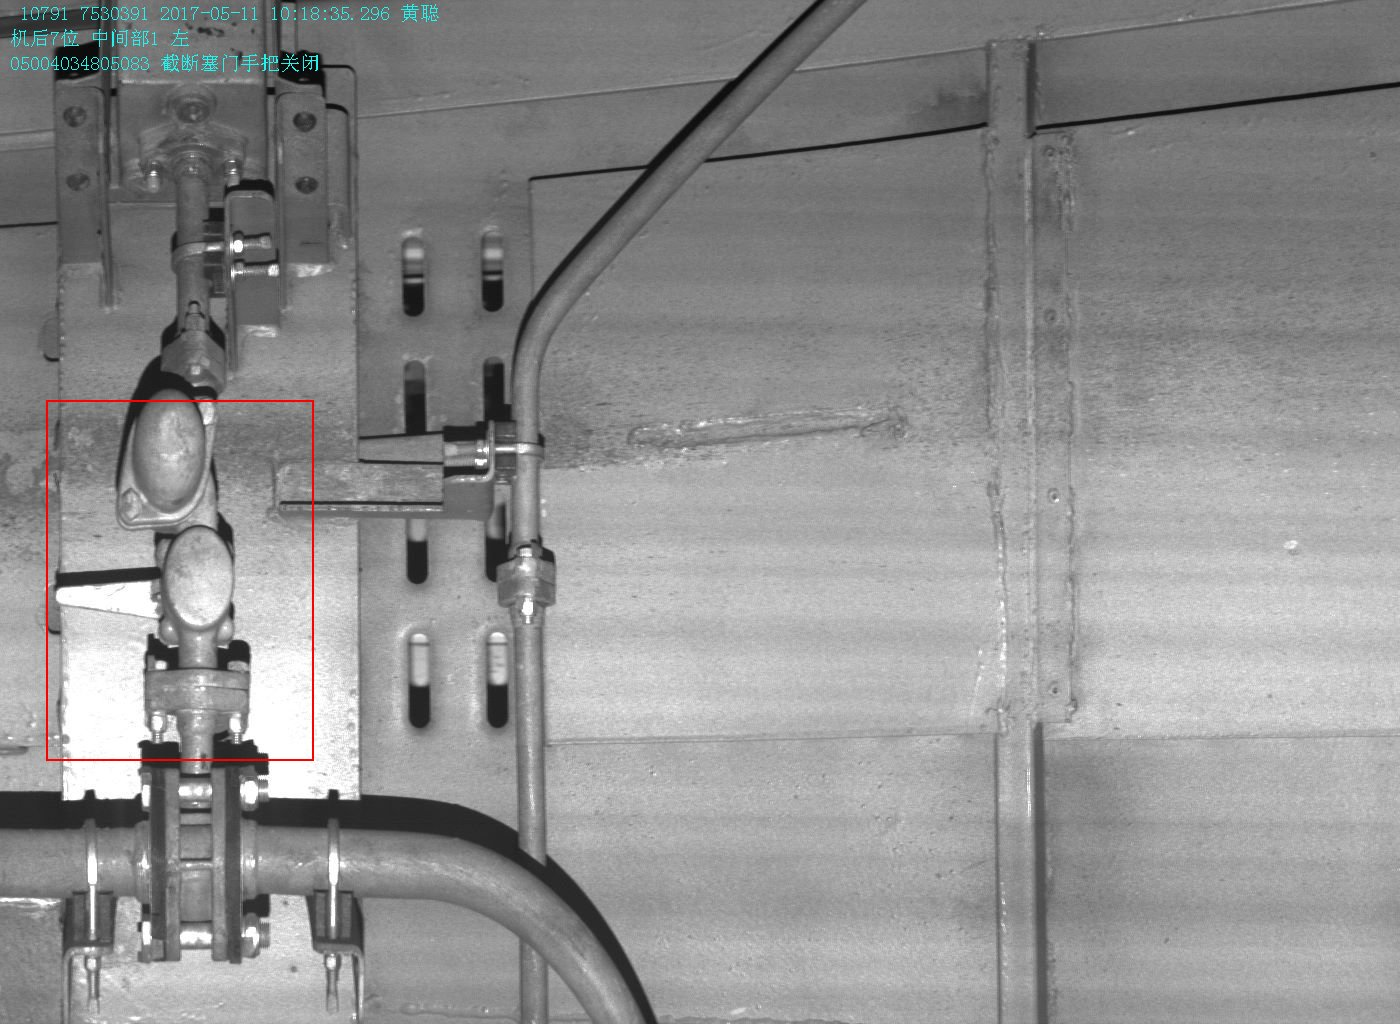truncated plug door handle: (54, 525, 237, 644)
